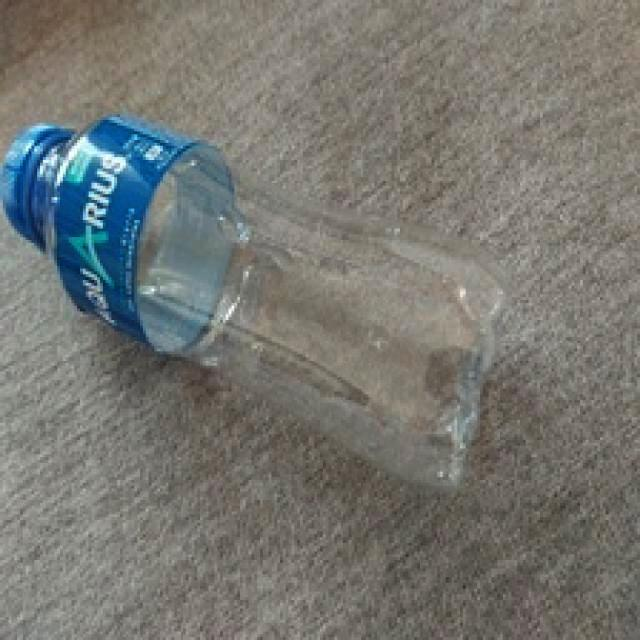bottle: (1, 101, 509, 489)
